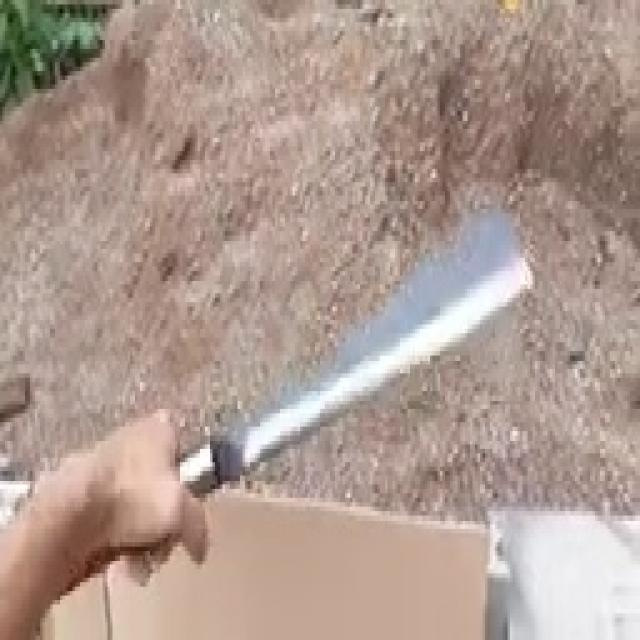eto: (44, 209, 529, 600)
